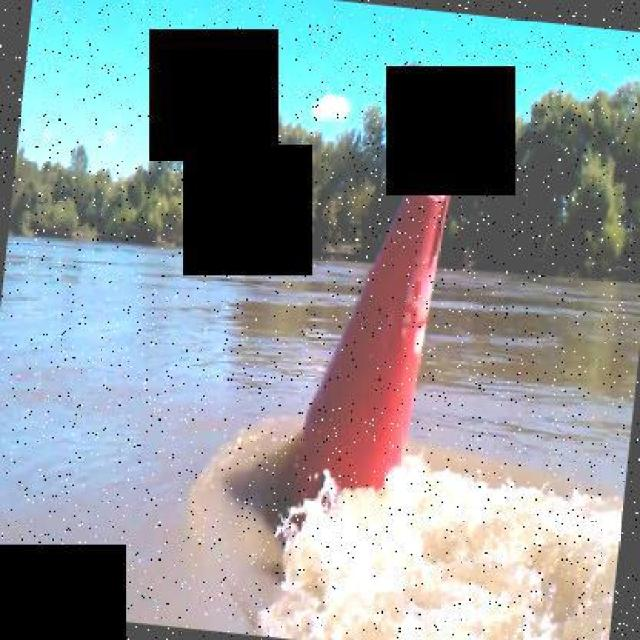Red Buoy: (303, 198, 451, 480)
